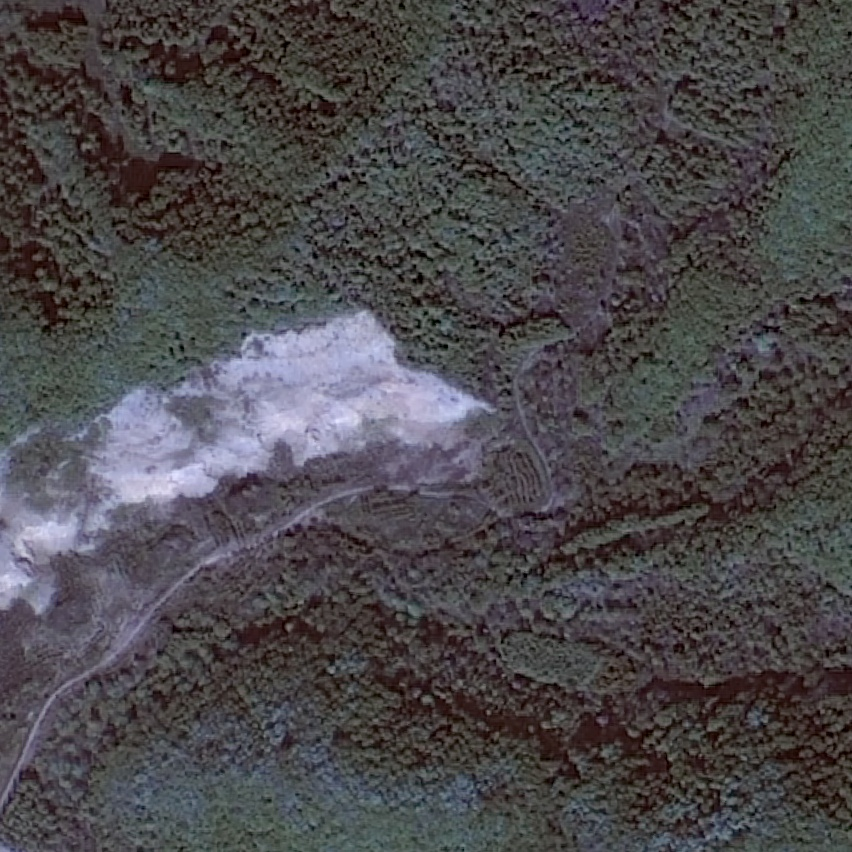slope: (0, 304, 504, 621)
